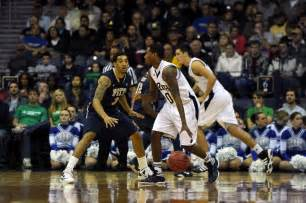basketball: (166, 150, 189, 172)
